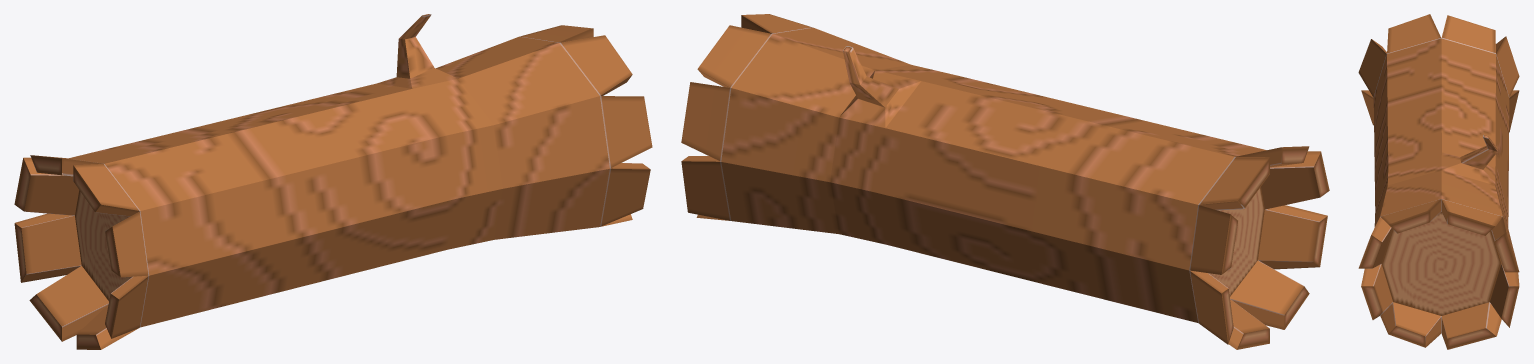
Rendered from Tronco_Textured.FBX.
3 renders of one model, left to right at view 1: azimuth 30°, elevation 25°; view 2: azimuth 150°, elevation 25°; view 3: azimuth 270°, elevation 25°, orthographic. The views are drawn at different scales.
Parts seen in each view (by area): view 1: Tronco; view 2: Tronco; view 3: Tronco.
Boxes of the visible parts, x1=… form: Tronco: x1=14, y1=14, x2=652, y2=349; Tronco: x1=681, y1=14, x2=1329, y2=349; Tronco: x1=1358, y1=14, x2=1519, y2=349.
Bounding box in the file's own units: 495 × 191 × 172.
